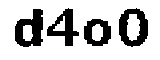0: (115, 4, 151, 52)
4: (46, 4, 82, 52)
d: (9, 5, 45, 52)
o: (83, 16, 112, 51)
